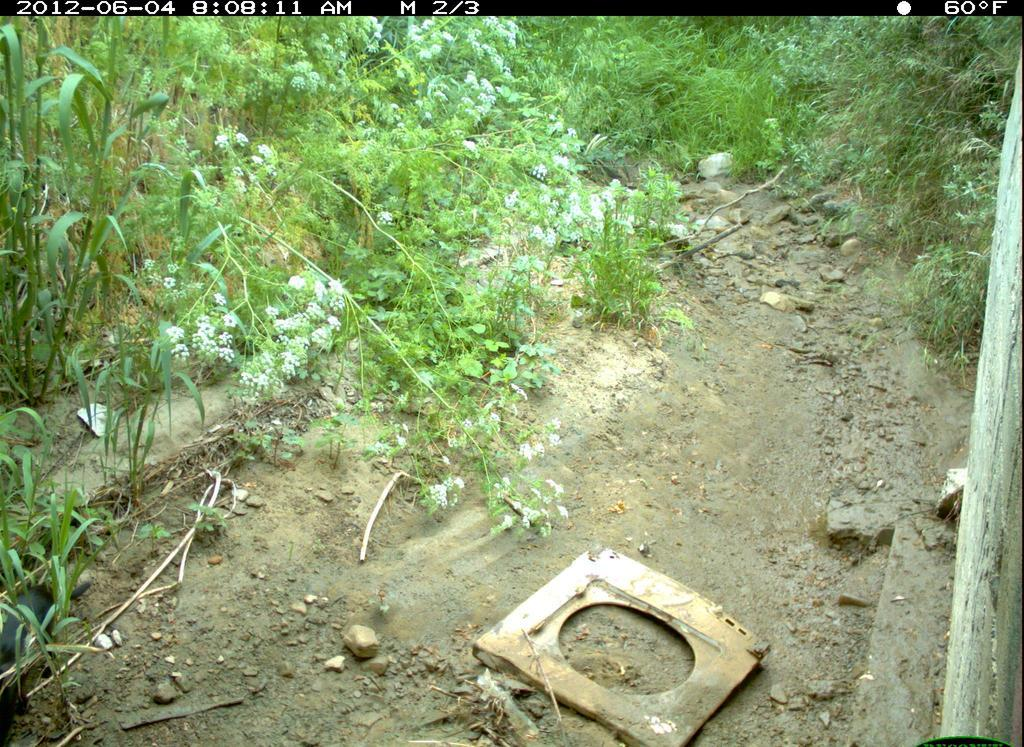cat: (2, 577, 93, 742)
